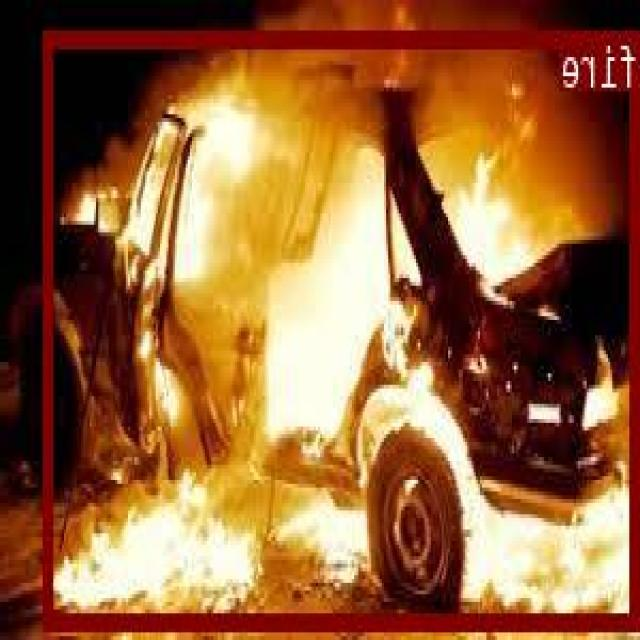fire: (47, 29, 640, 626)
